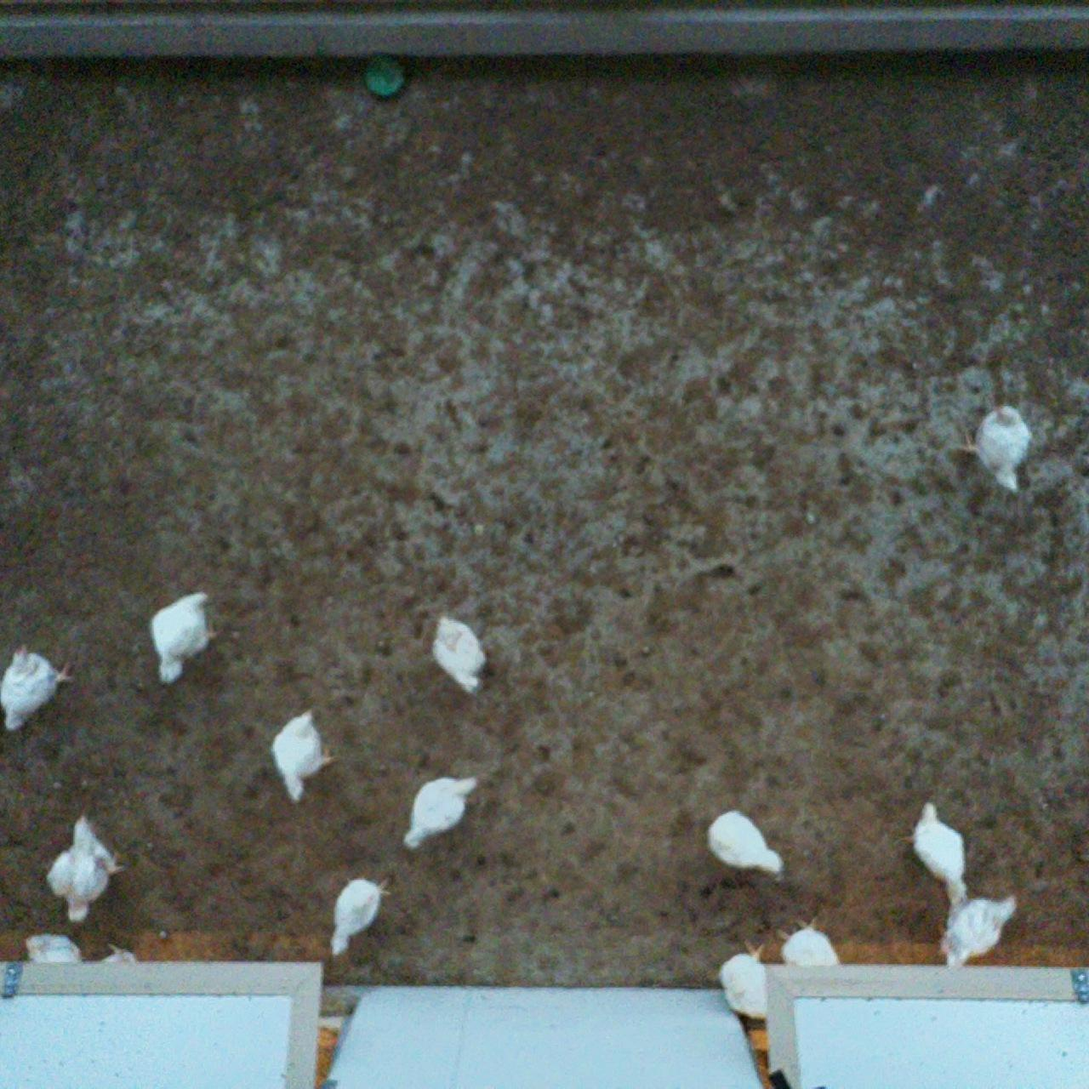chicken: (44, 809, 131, 931), (144, 584, 220, 689), (956, 398, 1036, 496), (938, 886, 1022, 975), (901, 800, 973, 903), (267, 699, 335, 806), (0, 641, 77, 735), (402, 766, 483, 852), (703, 805, 785, 876), (326, 875, 393, 960), (712, 936, 775, 1024), (427, 608, 487, 699), (774, 912, 840, 968), (21, 928, 82, 966)
